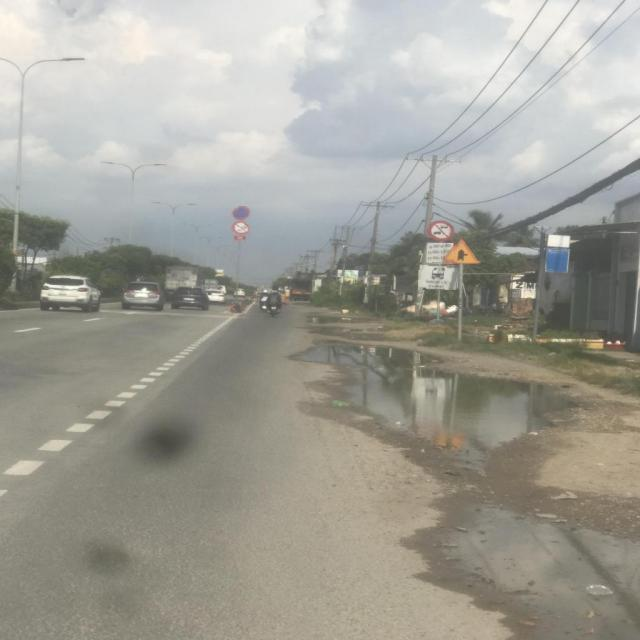107-cam-oto-khach-va-oto-tai: (427, 220, 454, 242)
207-giao-nhau-voi-duong-khong-uu-tien: (442, 239, 480, 265)
